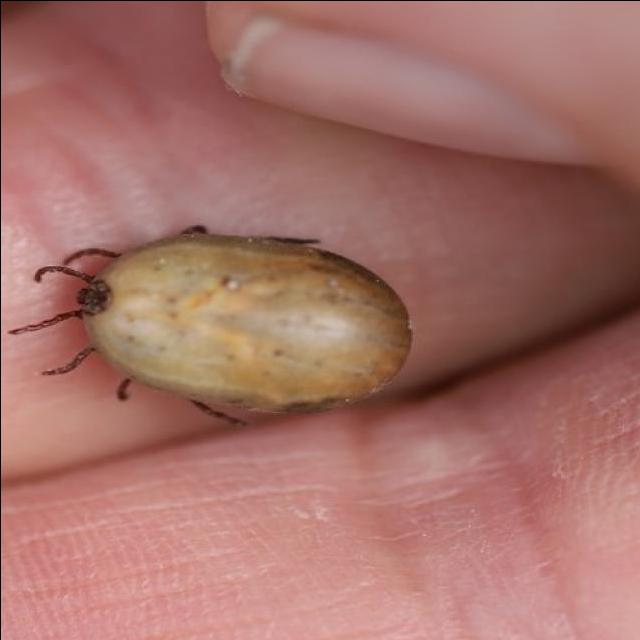Dermacentor Reticulatus-F-Fed: (7, 225, 412, 425)
